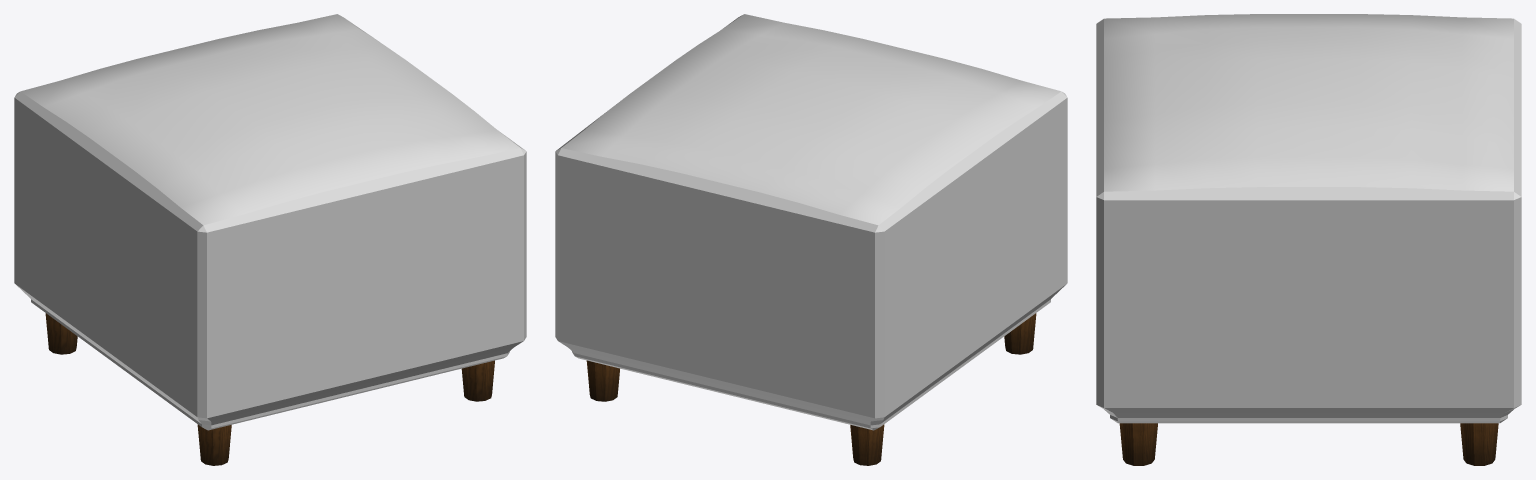
File: LoungePouffe.fbx
The picture shows the model from 3 angles, left to right: view 1: azimuth 30°, elevation 25°; view 2: azimuth 150°, elevation 25°; view 3: azimuth 270°, elevation 25°; orthographic projection. The views are drawn at different scales.
Visible parts, largest first — view 1: Pouffe, Leg, Leg.001, Leg.002; view 2: Pouffe, Leg.002, Leg.003, Leg; view 3: Pouffe, Leg.001, Leg.003.
Boxes of the visible parts, left/top/right/bottom form: Pouffe: left=14, top=14, right=526, bottom=430; Leg: left=197, top=424, right=231, bottom=465; Leg.001: left=461, top=360, right=494, bottom=401; Leg.002: left=45, top=313, right=77, bottom=354; Pouffe: left=555, top=14, right=1067, bottom=430; Leg.002: left=850, top=424, right=884, bottom=465; Leg.003: left=586, top=360, right=619, bottom=401; Leg: left=1004, top=313, right=1036, bottom=354; Pouffe: left=1096, top=14, right=1521, bottom=423; Leg.001: left=1119, top=423, right=1157, bottom=465; Leg.003: left=1460, top=423, right=1498, bottom=465.
Bounding box in the file's own units: 200 × 159 × 200.
